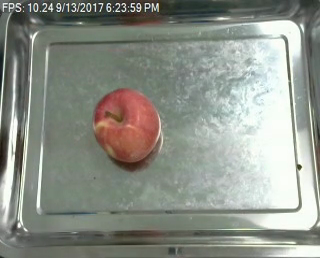Apple: (89, 84, 163, 165)
